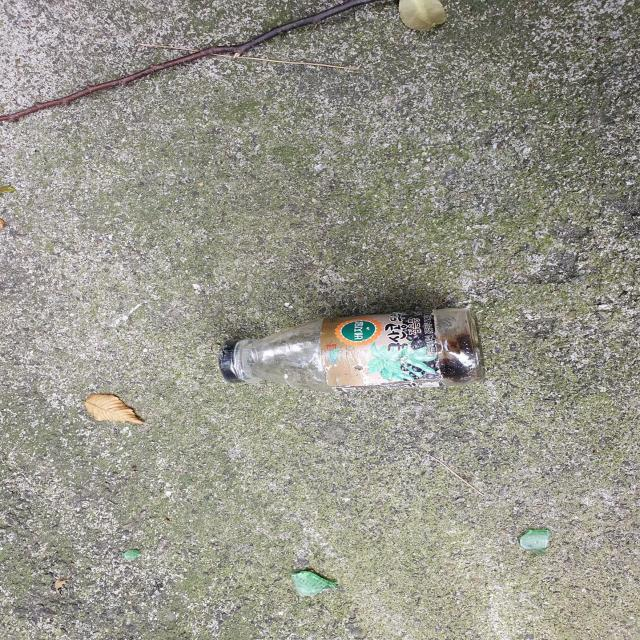glass: (219, 309, 484, 392)
